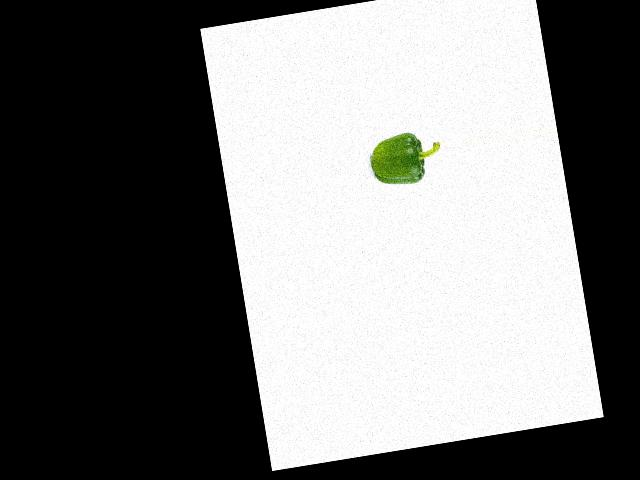bell_pepper: (367, 127, 444, 197)
